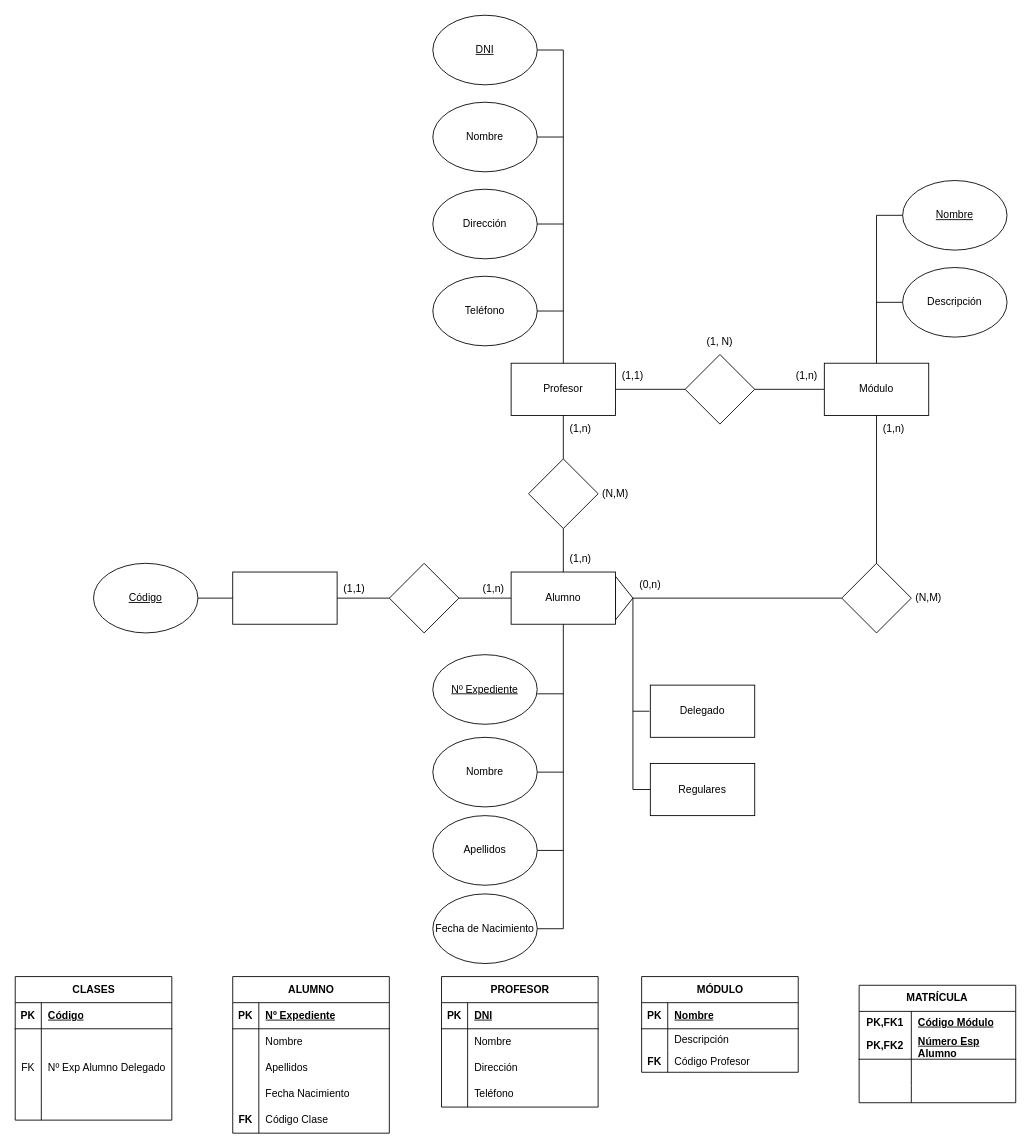
Some shapes in this 1031 by 1148 pixel diagram are drawn without their labels. The centre of each missing label's shape, as x and y in pixels:
Agrupado: (423,597)
Clase: (284,597)
Imparte: (719,389)
Matricula: (876,597)
Tiene: (563,493)
